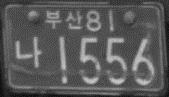1: (53, 36, 71, 84), (105, 10, 117, 30)
5: (77, 36, 101, 85), (105, 36, 128, 85)
6: (131, 37, 154, 85)
8: (85, 10, 101, 31)
나: (14, 36, 43, 68)
부산_O: (45, 9, 83, 29)
